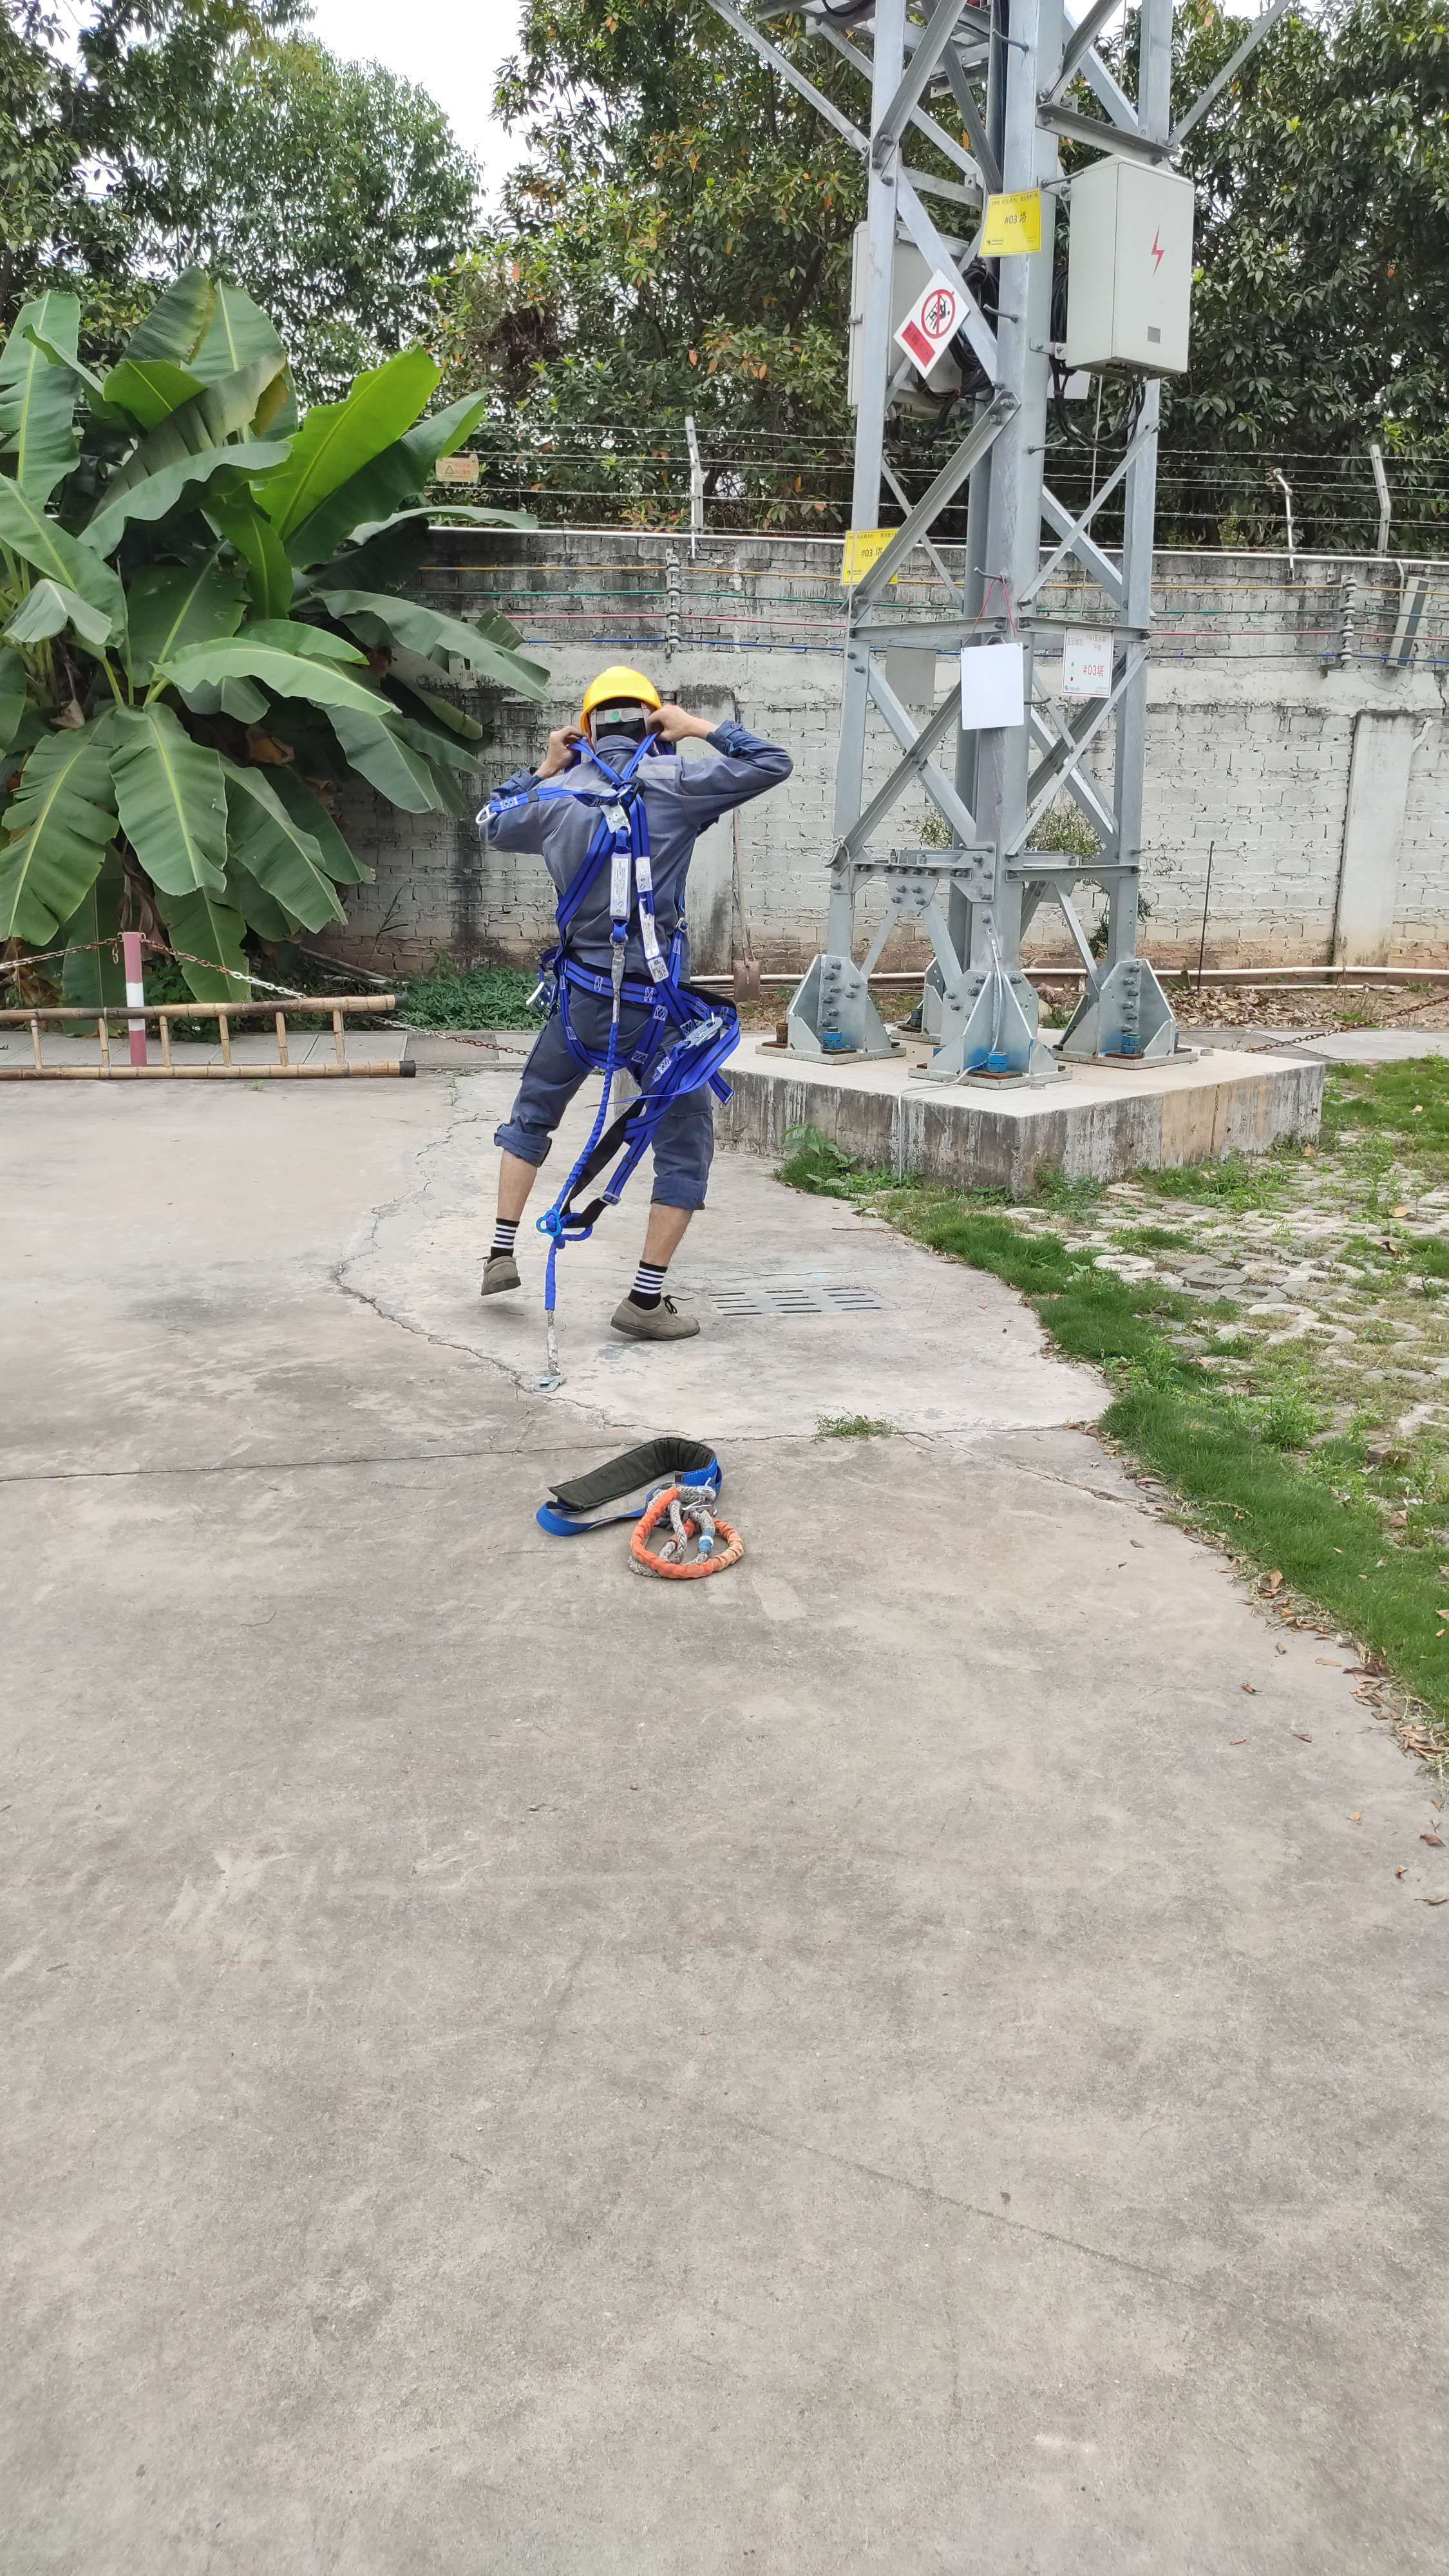downsuit: (467, 994, 743, 1219)
upsuit: (481, 736, 800, 987)
wrongbottom: (465, 1122, 563, 1223), (630, 1173, 708, 1297)
